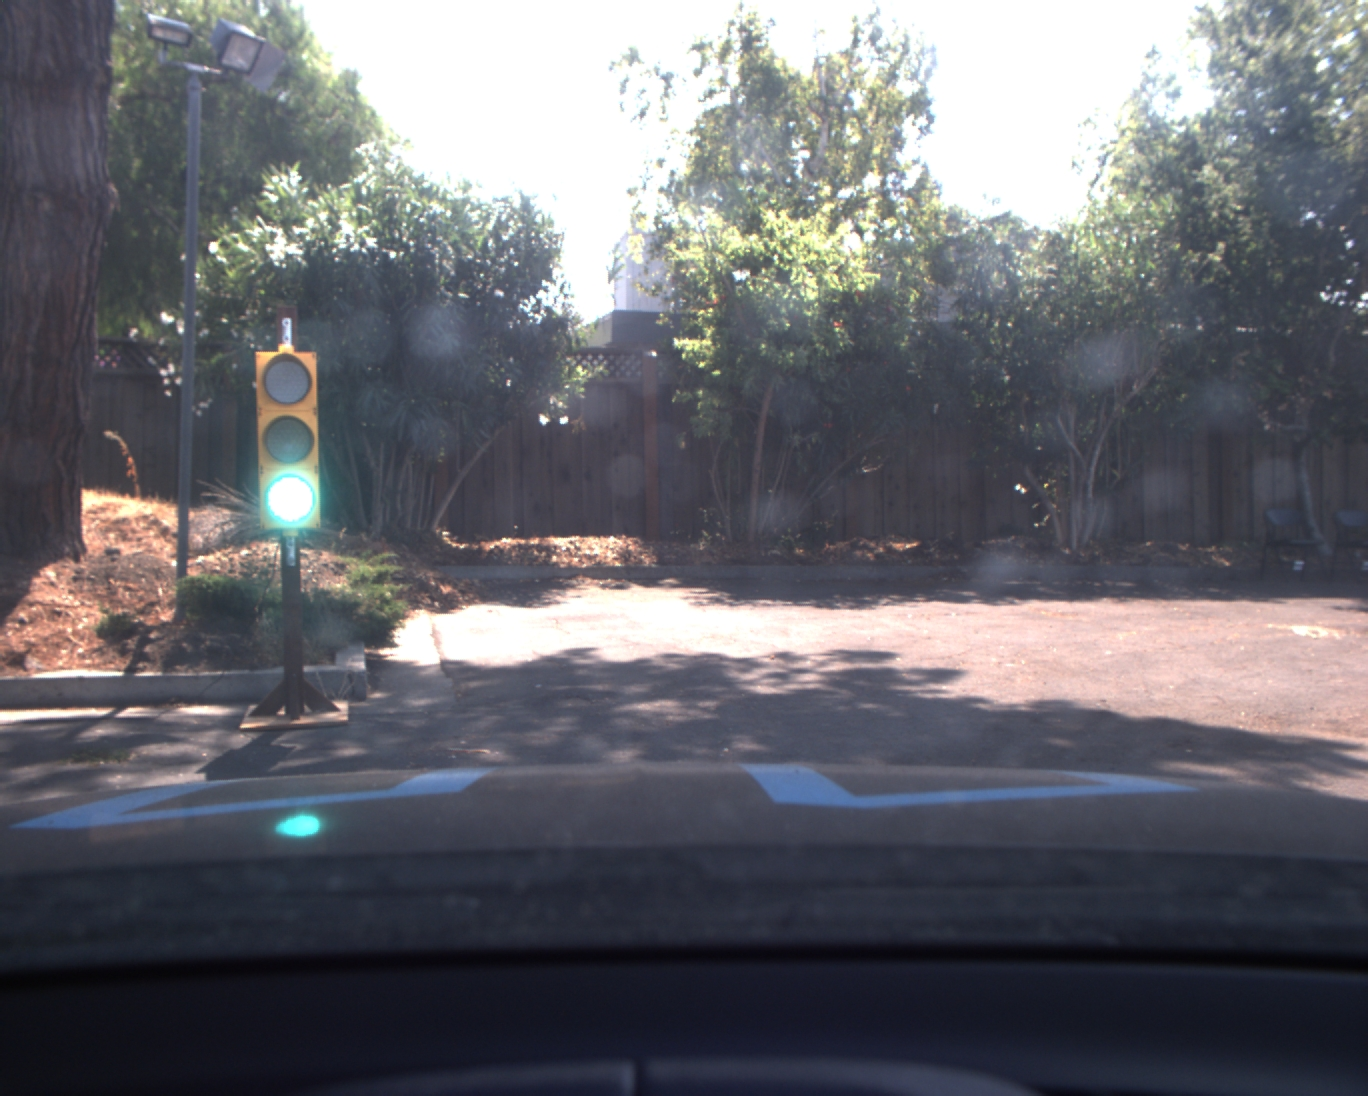green: (251, 350, 323, 531)
